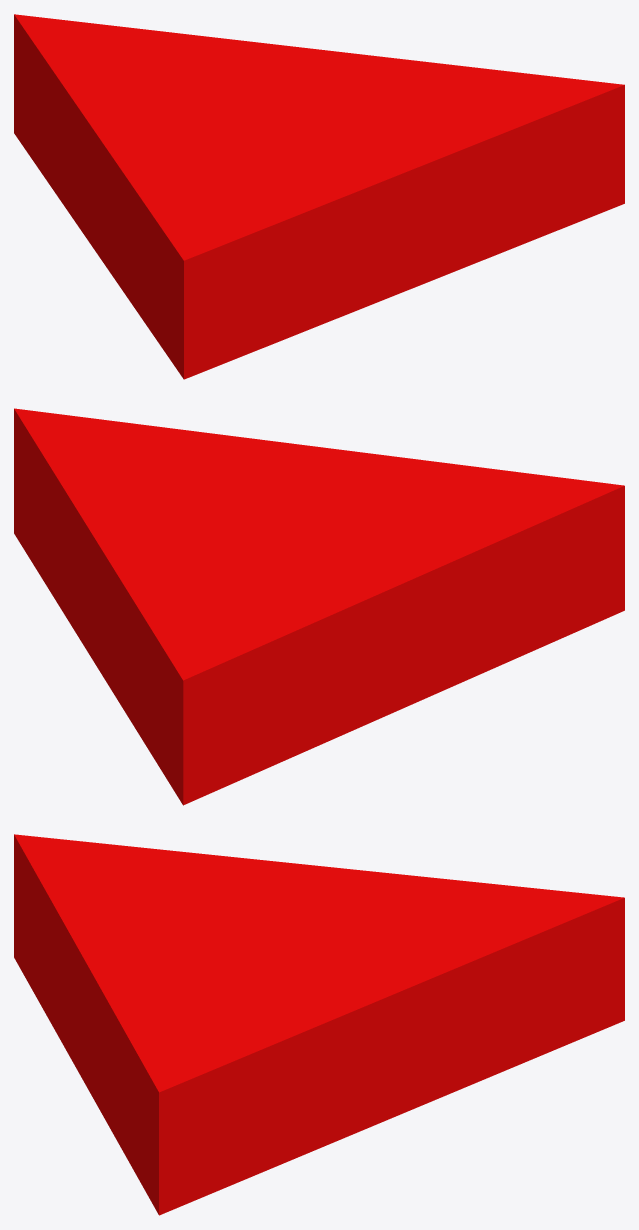
File: triangle.dae
The picture shows the model from 3 angles, top to bottom: view 1: azimuth 30°, elevation 25°; view 2: azimuth 150°, elevation 25°; view 3: azimuth 270°, elevation 25°; orthographic projection. The views are drawn at different scales.
Visible parts, largest first — view 1: Triangle3; view 2: Triangle3; view 3: Triangle3.
Boxes of the visible parts, bbox=[...] form: Triangle3: bbox=[14, 14, 624, 379]; Triangle3: bbox=[14, 408, 624, 805]; Triangle3: bbox=[14, 834, 624, 1215].
Bounding box in the file's own units: 0.09 × 0.09 × 0.02.
